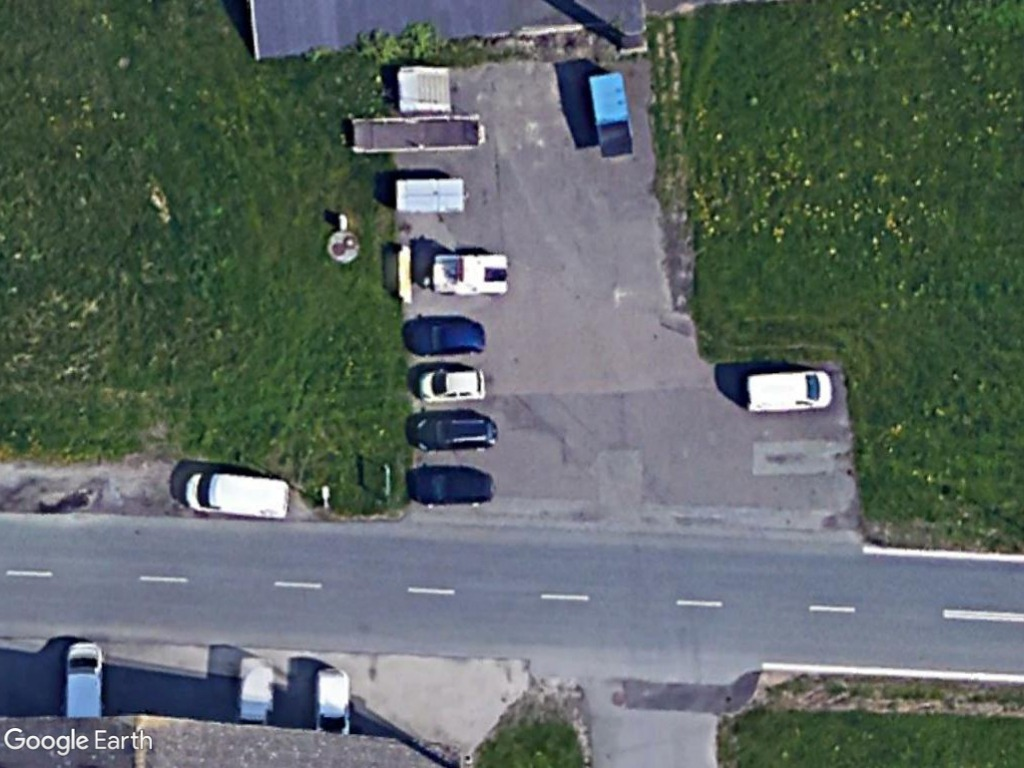car: (409, 411, 501, 455), (401, 318, 489, 360), (415, 364, 489, 406)
van: (181, 469, 298, 523), (739, 365, 836, 417), (62, 639, 107, 716)
